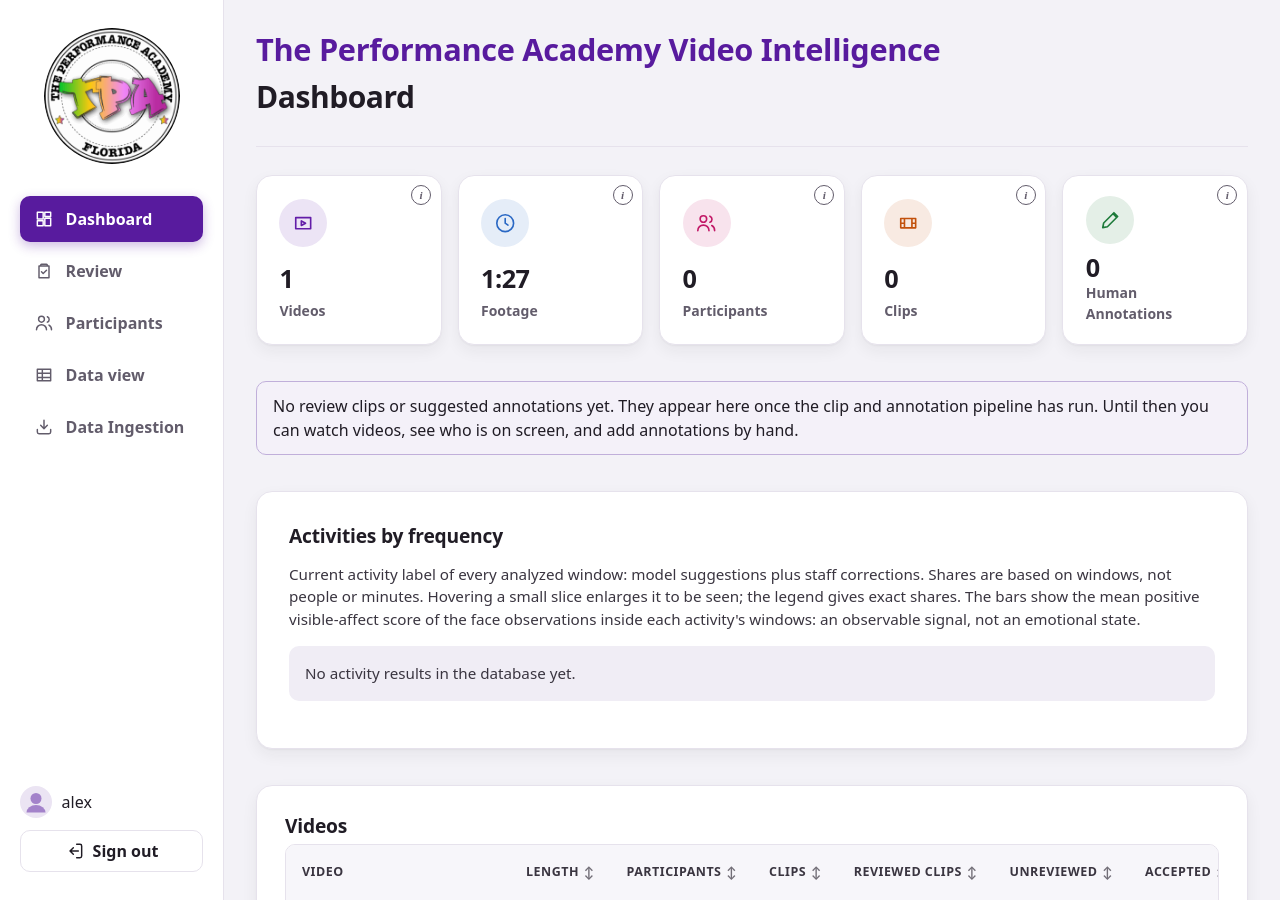
Test: dashboard › treats an empty pipeline as normal, not as an error
The image size is (1280, 900).
Expected: the text "No review clips or suggested annotations yet" is shown, left=273, top=395, right=1209, bottom=441
Click the link "Review".
click(78, 271)  # box left=34, top=260, right=122, bottom=282
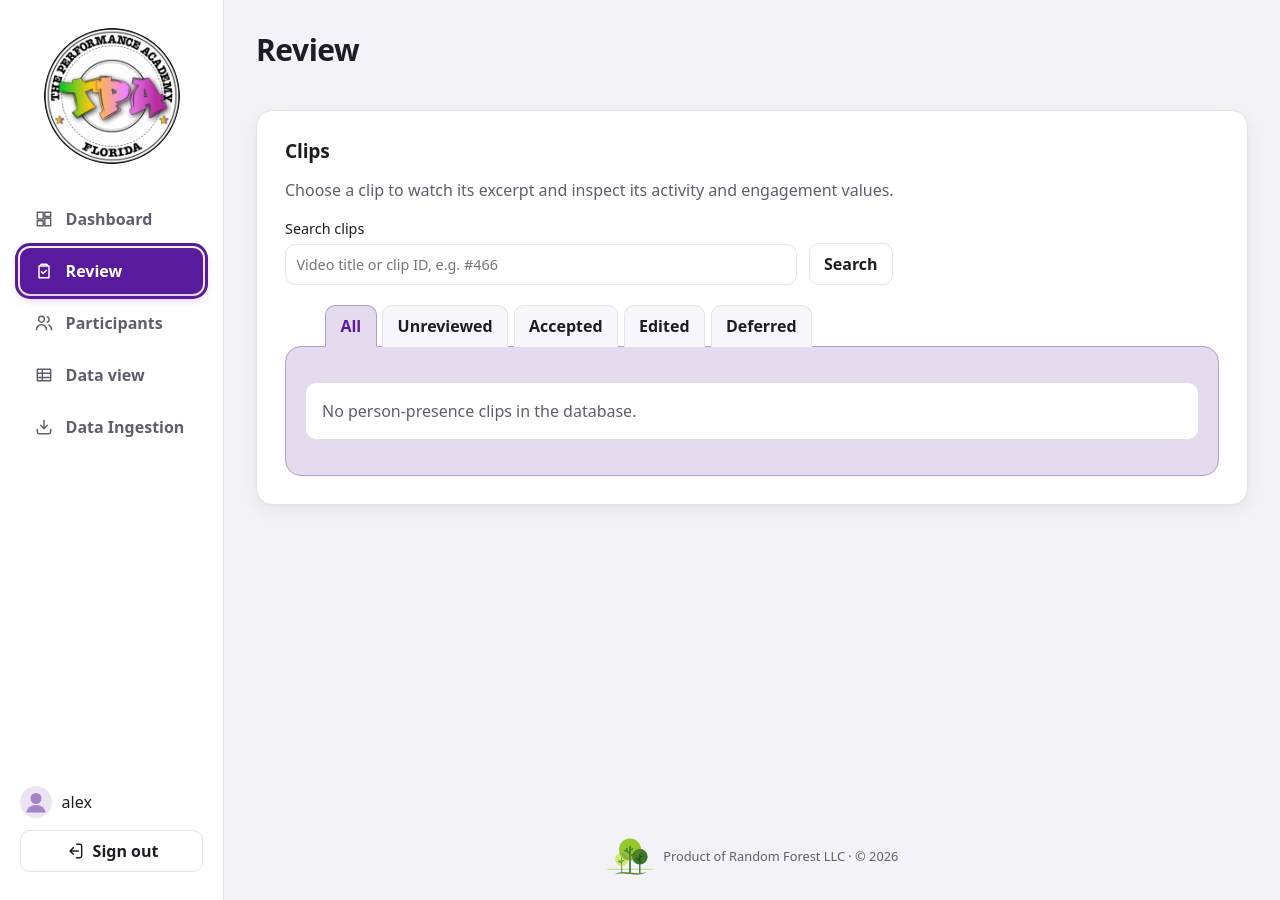
Result: the heading "Review" is shown at left=256, top=32, right=359, bottom=68
